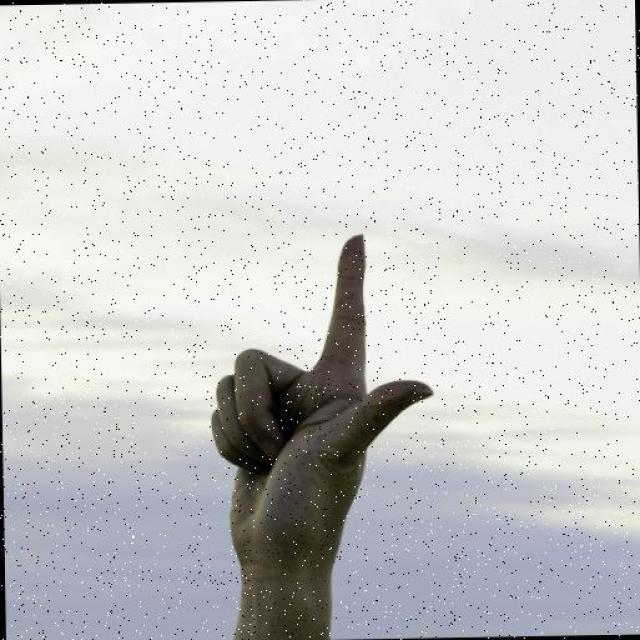L: (201, 228, 440, 576)
